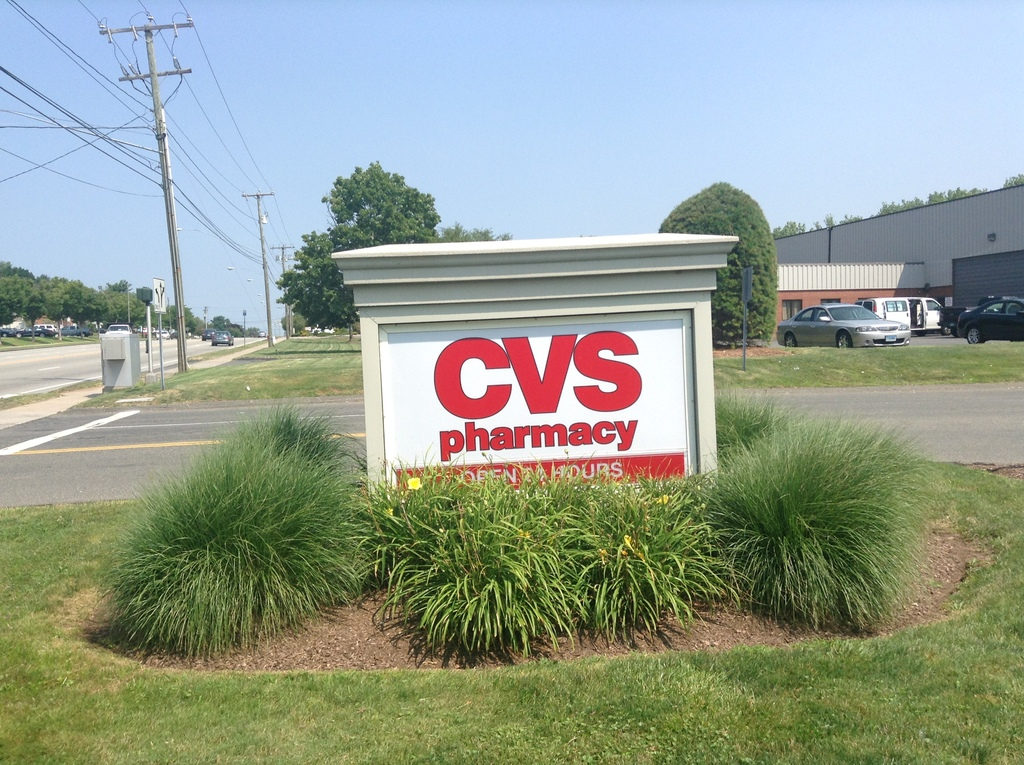cars: (783, 294, 932, 350), (956, 297, 1023, 346), (0, 322, 177, 336), (210, 329, 233, 345), (201, 327, 210, 338)
